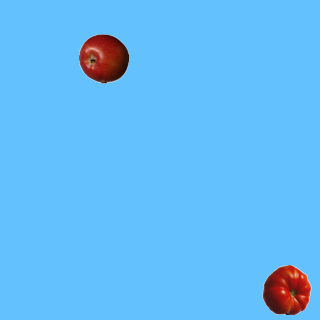Apple Braeburn: (78, 33, 128, 83)
Tomato 3: (261, 264, 311, 314)
